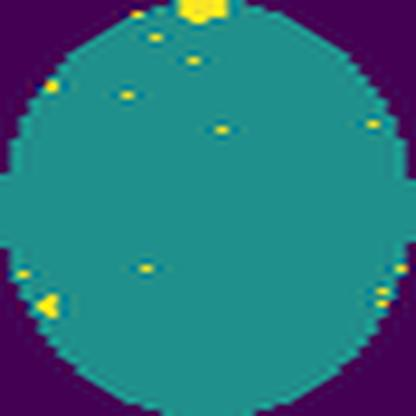Edge-Loc: (172, 0, 237, 25)
